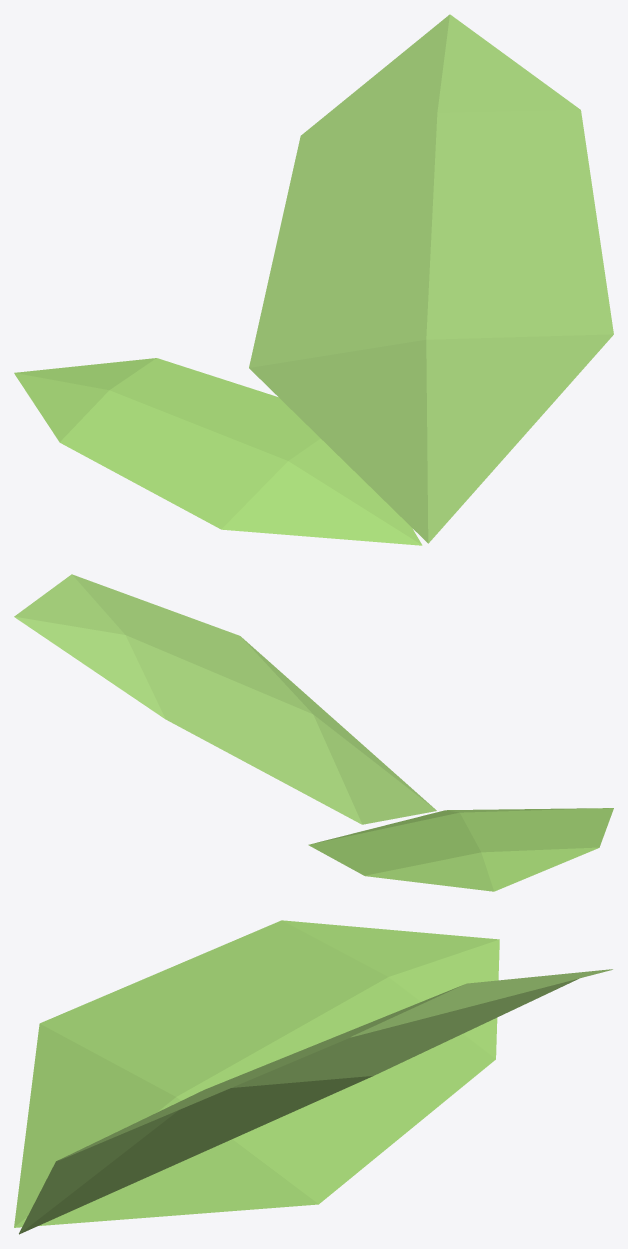
Rendered from Plant_h_TwoS_02.fbx.
The picture shows the model from 3 angles, top to bottom: view 1: azimuth 30°, elevation 25°; view 2: azimuth 150°, elevation 25°; view 3: azimuth 270°, elevation 25°; orthographic projection. The views are drawn at different scales.
Parts seen in each view (by area): view 1: Plant_h_TwoS_02; view 2: Plant_h_TwoS_02; view 3: Plant_h_TwoS_02.
Boxes of the visible parts, left/top/right/bottom form: Plant_h_TwoS_02: left=14, top=14, right=613, bottom=545; Plant_h_TwoS_02: left=14, top=574, right=613, bottom=891; Plant_h_TwoS_02: left=14, top=920, right=612, bottom=1234.
Bounding box in the file's own units: 31.74 × 17.3 × 22.12.
